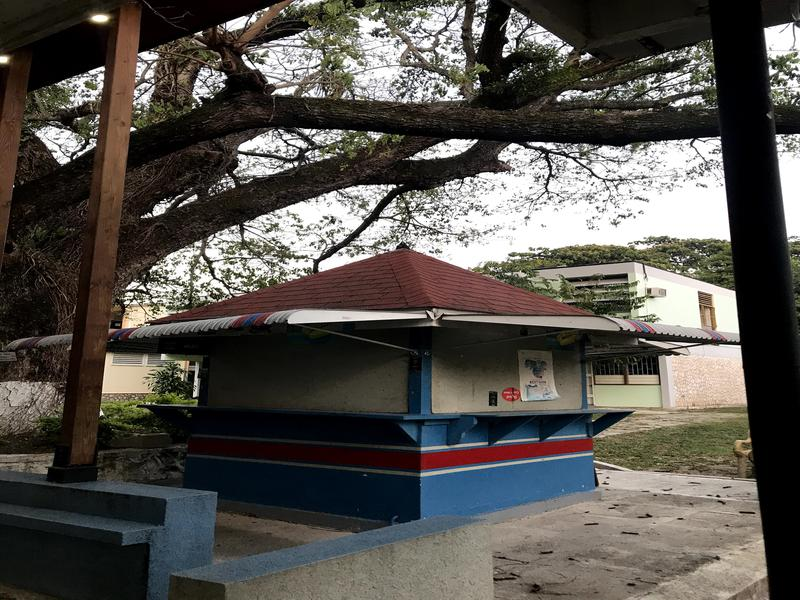18.0051667_-76.74944412_librarystall: (155, 230, 640, 511)
